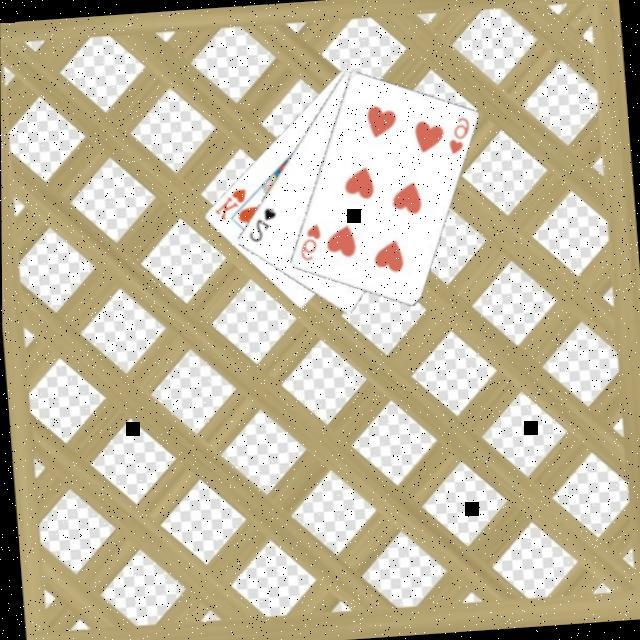2S: (242, 202, 278, 243)
6H: (293, 218, 324, 262), (442, 111, 472, 155)
KH: (208, 182, 249, 221)
